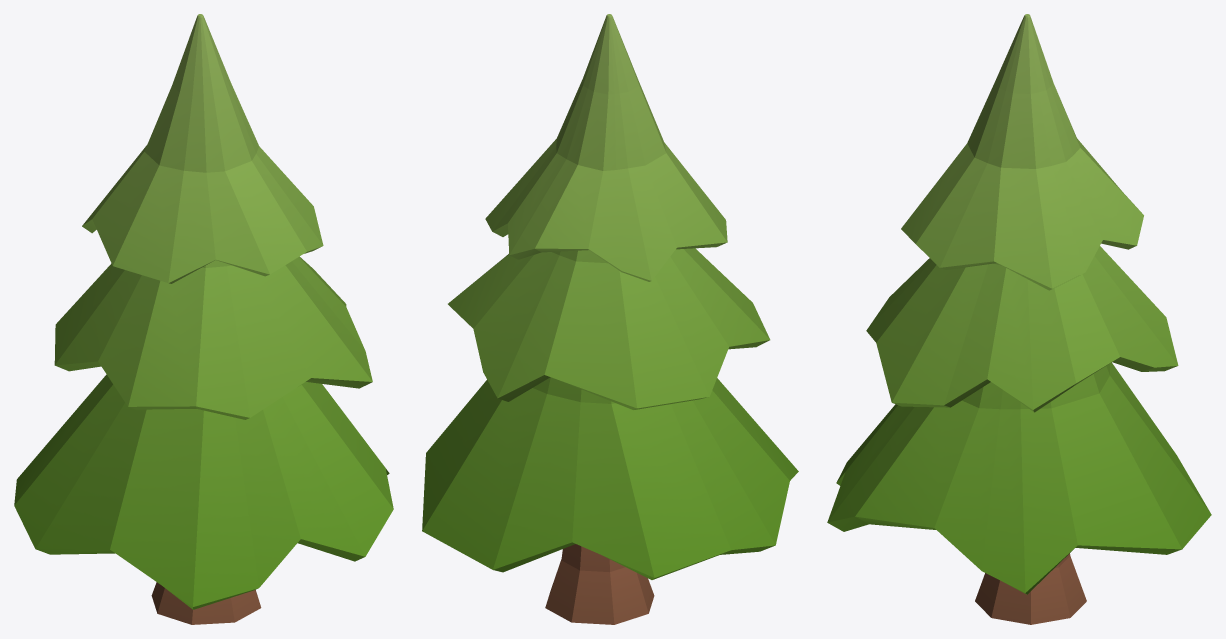
The model's file is fir-tree-medium.glb.
3 renders of one model, left to right at view 1: azimuth 30°, elevation 25°; view 2: azimuth 150°, elevation 25°; view 3: azimuth 270°, elevation 25°, orthographic.
Parts seen in each view (by area): view 1: fir tree medium; view 2: fir tree medium; view 3: fir tree medium.
Boxes of the visible parts, bbox=[...] form: fir tree medium: bbox=[14, 14, 393, 624]; fir tree medium: bbox=[422, 14, 798, 624]; fir tree medium: bbox=[827, 14, 1211, 624].
Bounding box in the file's own units: 3.62 × 5.84 × 3.5.
Materials: 1 (1 with a texture image).
